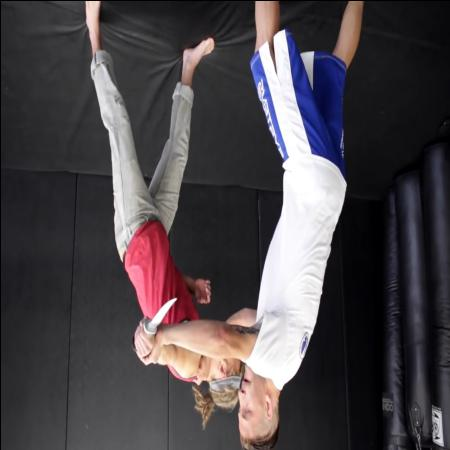long weapon: (128, 291, 179, 355)
